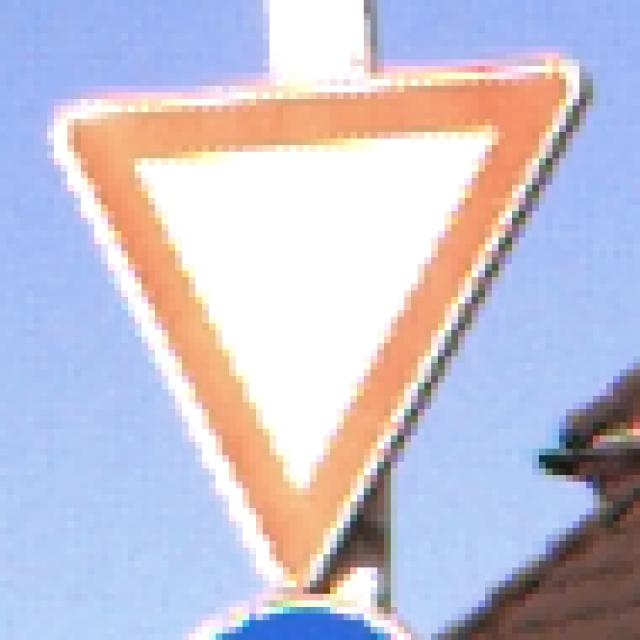Give Way: (55, 61, 587, 589)
